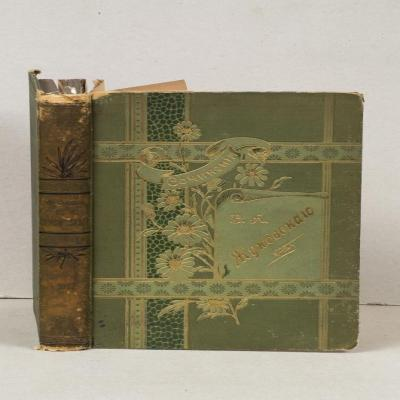rare_books: (31, 75, 362, 353)
